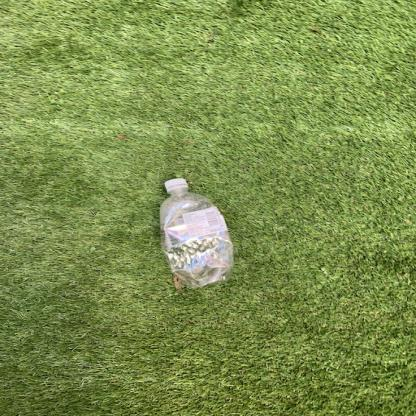trash: (158, 177, 235, 292)
